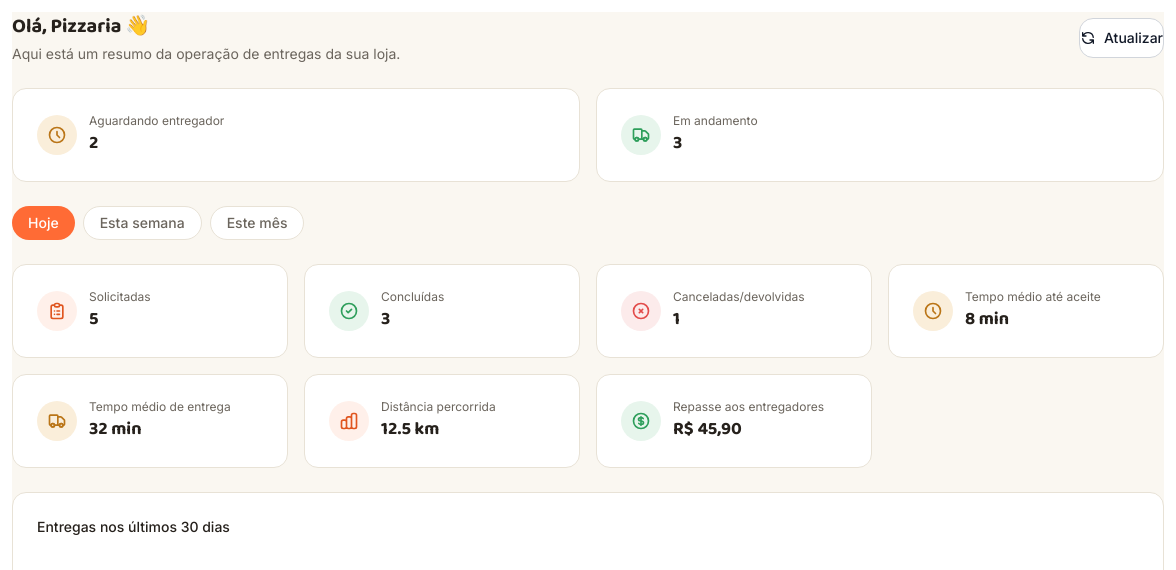
Test: DashboardPage › mostra os cards do período "Hoje" por padrão, e troca ao clicar em outro período
Expected: the text "Solicitadas" is shown, [89,289,151,305]
Expected: the text "5" is shown, [89,305,98,333]
Click the button "Este mês" at (257, 223), box [210,206,304,240]
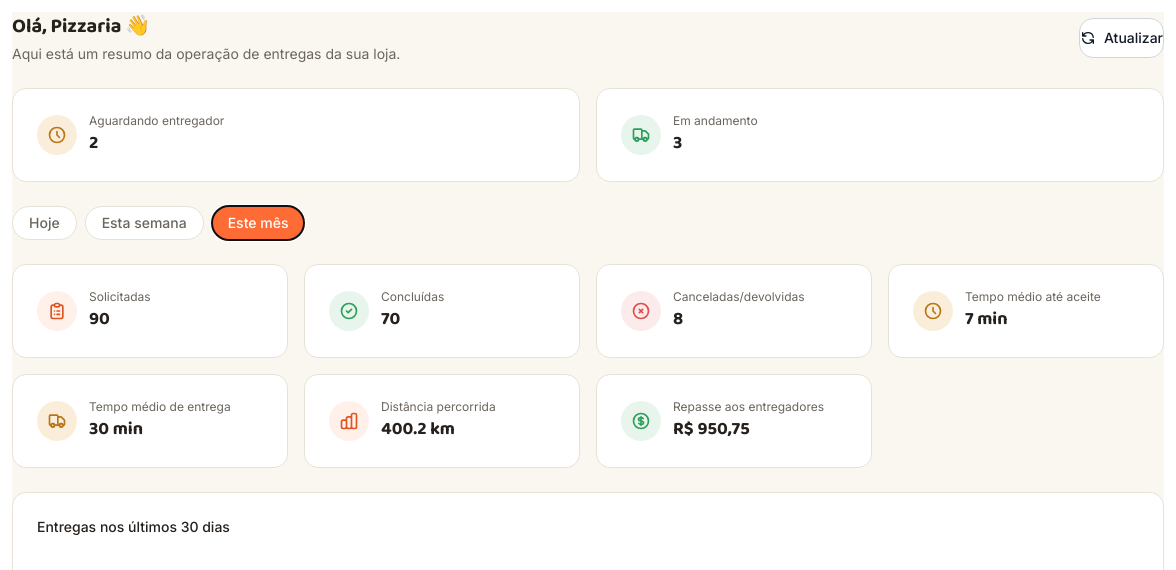
Now the text "90" is shown, box [89,305,110,333]
